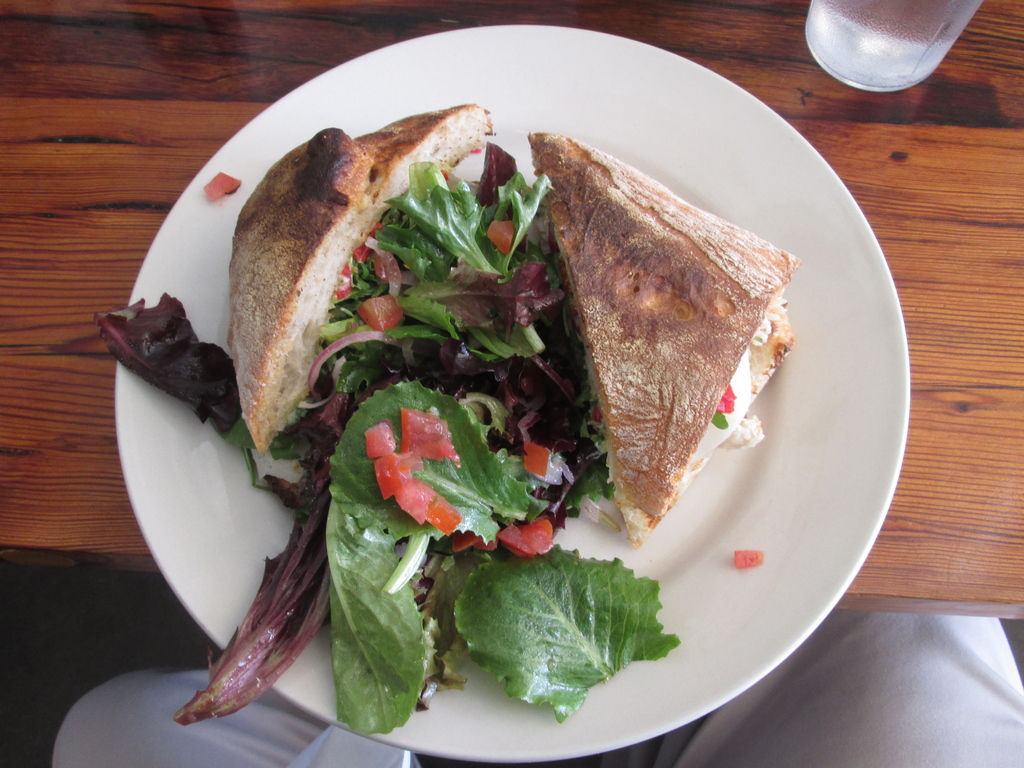sandwich: (524, 129, 803, 543), (228, 101, 507, 450)
